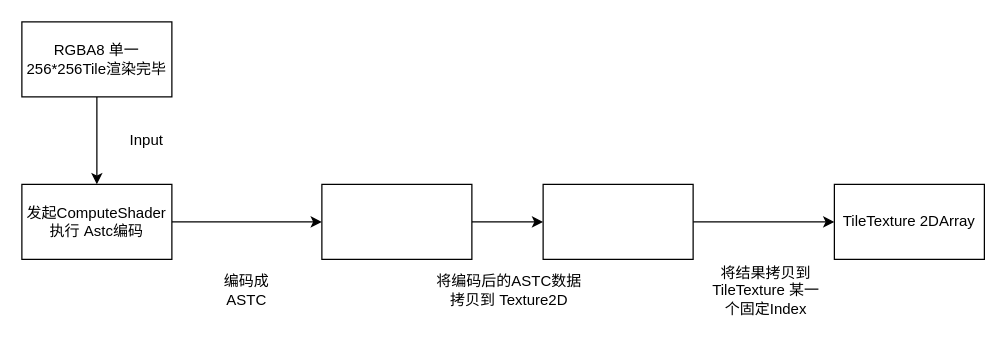
Some shapes in this 1006 by 339 pixel diagram are drawn without their labels. Here are the shapes that lost their labels. From the top down, the centre of each, then its label:
the point at 396,221: 申请一个 256*256 r32g32b32a32 RenderTexture
the point at 617,221: 申请一个 64*64 ASTC4x4 Texture2D
